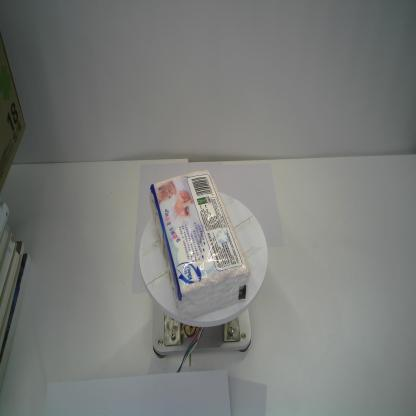Tissue: (148, 167, 251, 321)
